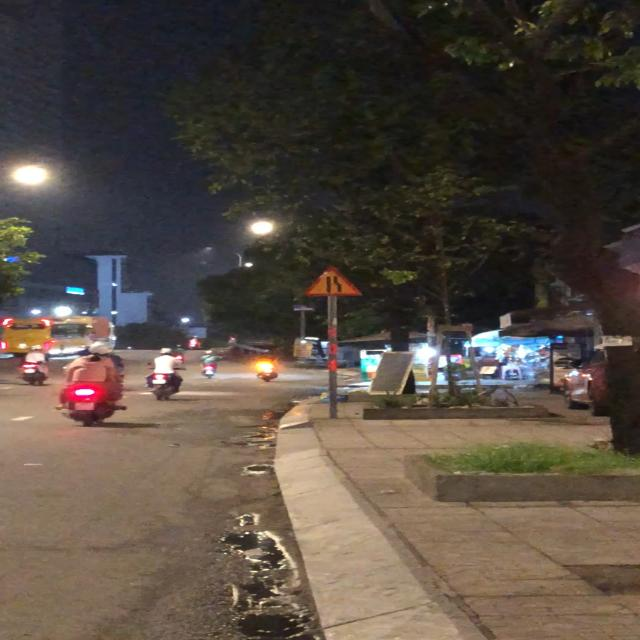Bien bao duong bi thu hep: (302, 266, 363, 298)
